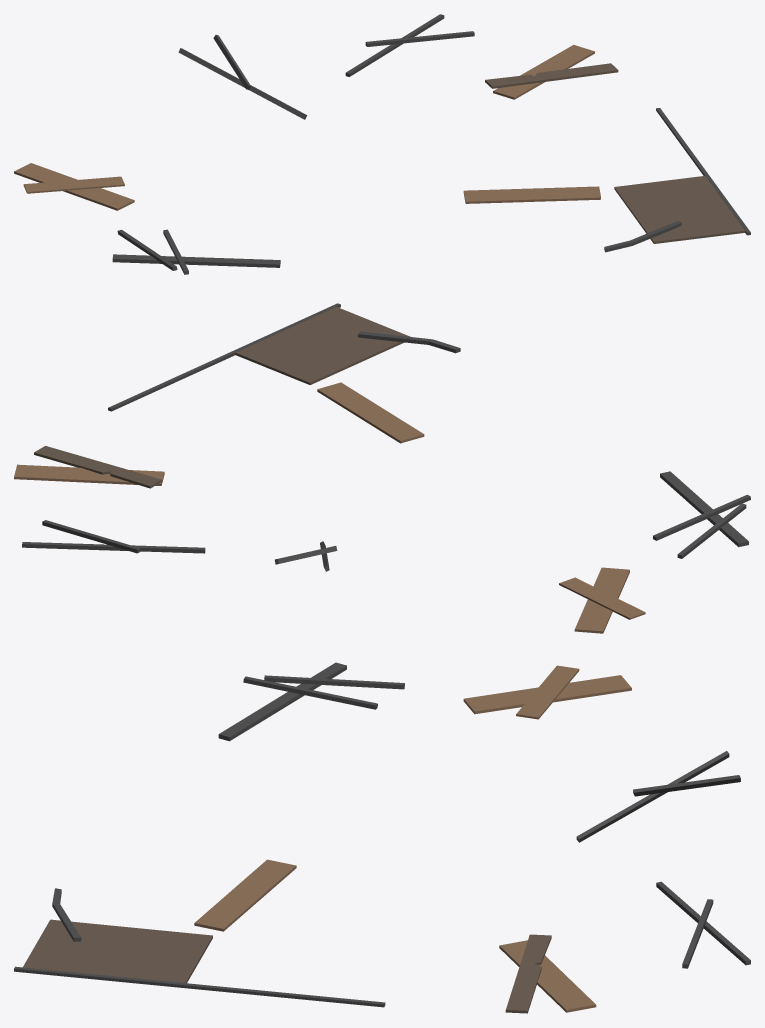
The model's file is Blocos_Débris.fbx.
The picture shows the model from 3 angles, top to bottom: view 1: azimuth 30°, elevation 25°; view 2: azimuth 150°, elevation 25°; view 3: azimuth 270°, elevation 25°; orthographic projection. The views are drawn at different scales.
Visible parts, largest first — view 1: Blocos.001; view 2: Blocos.001; view 3: Blocos.001.
Part boxes in pixels (x1=…): Blocos.001: x1=14, y1=14, x2=750, y2=274; Blocos.001: x1=14, y1=303, x2=750, y2=633; Blocos.001: x1=14, y1=662, x2=750, y2=1013.
Bounding box in the file's own units: 1463 × 105 × 1318.
